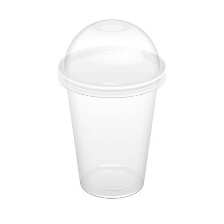glass: (54, 10, 170, 203)
